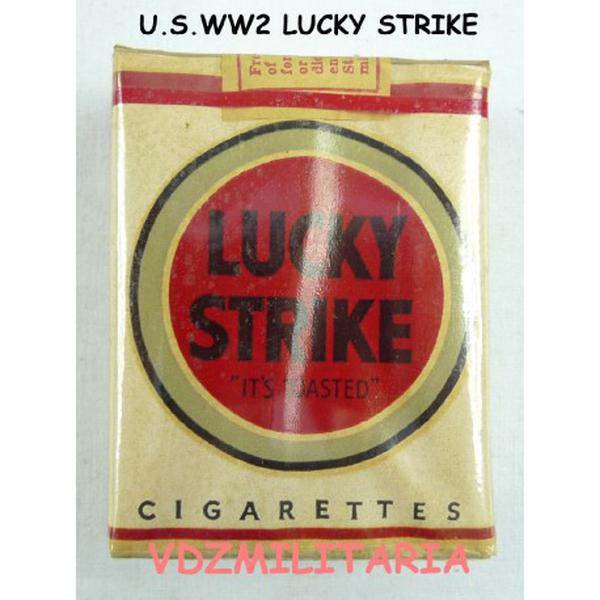lucky_strike_red: (115, 47, 488, 561)
